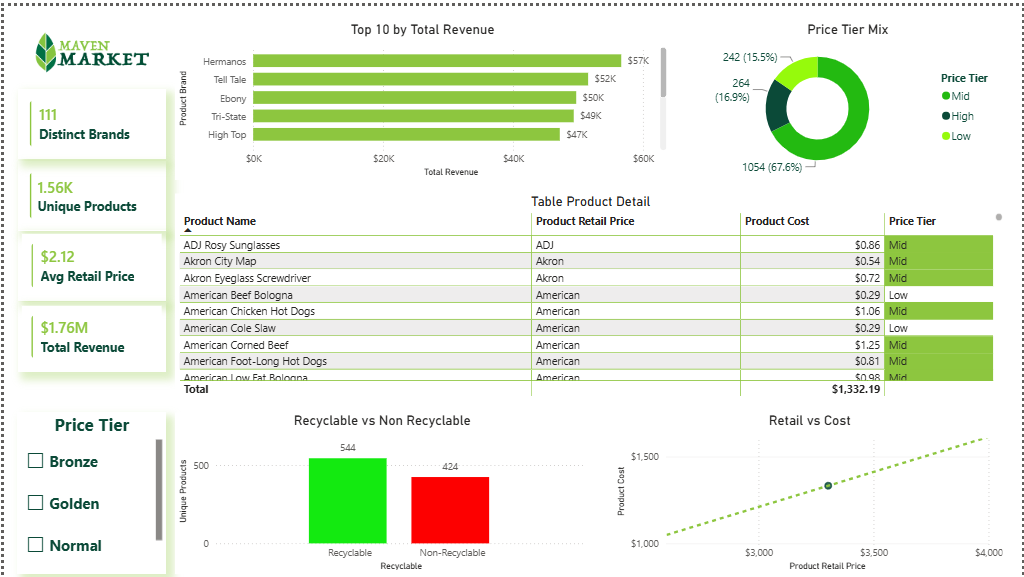

This screenshot's page, from the dashboard's own definition file:
{"tool":"powerbi","page":{"name":"Product Detail","canvas":[1280,720],"ordinal":1},"visuals":[{"type":"image","box":[36.1,19.7,149.2,78.7],"z":1000},{"type":"cardVisual","fields":{"Data":["Products.Distinct Brands"]},"box":[16.4,103.3,186.9,88.5],"z":2000},{"type":"cardVisual","fields":{"Data":["Products.Unique Products"]},"box":[16.4,193.4,186.9,88.5],"z":3000},{"type":"cardVisual","fields":{"Data":["Products.Avg Retail Price"]},"box":[16.4,282,186.9,90.2],"z":4000},{"type":"cardVisual","fields":{"Data":["Transaction Data.Total Revenue"]},"box":[16.4,372.1,186.9,88.5],"z":5000},{"type":"slicer","title":"Price Tier","fields":{"Values":["Customers.member_card"]},"box":[16.4,511.5,186.9,203.3],"z":6000},{"type":"columnChart","title":"Recyclable vs Non Recyclable","fields":{"Category":["Products.recyclable"],"Y":["Products.Unique Products"]},"box":[214.8,511.5,521.3,203.3],"z":8000},{"type":"barChart","title":"Top 10 by Total Revenue","fields":{"Category":["Products.product_brand"],"Y":["Transaction Data.Total Revenue"]},"box":[214.8,19.7,623,200],"z":9000},{"type":"donutChart","title":"Price Tier Mix","fields":{"Category":["Products.Price_Tier"],"Y":["Products.Unique Products"]},"box":[862.3,19.7,398.4,200],"z":10000},{"type":"tableEx","title":"Table Product Detail","fields":{"Values":["Products.product_name","Products.product_brand","Sum(Products.product_cost)","Products.Price_Tier"]},"box":[214.8,236.1,1045.9,260.7],"z":12000},{"type":"scatterChart","title":"Retail vs Cost","fields":{"X":["Sum(Products.product_retail_price)"],"Y":["Sum(Products.product_cost)"]},"box":[765.6,511.5,495.1,203.3],"z":13000}]}

Visuals, with their boxes in screenshot pixels (x1, y1, x2, y2), scaled from the page's 1280x720 canvas onto the 1024x577 screenshot:
image: <bbox>29, 16, 148, 79</bbox>
cardVisual - Products.Distinct Brands: <bbox>13, 83, 163, 154</bbox>
cardVisual - Products.Unique Products: <bbox>13, 155, 163, 226</bbox>
cardVisual - Products.Avg Retail Price: <bbox>13, 226, 163, 298</bbox>
cardVisual - Transaction Data.Total Revenue: <bbox>13, 298, 163, 369</bbox>
"Price Tier" slicer: <bbox>13, 410, 163, 573</bbox>
"Recyclable vs Non Recyclable" columnChart: <bbox>172, 410, 589, 573</bbox>
"Top 10 by Total Revenue" barChart: <bbox>172, 16, 670, 176</bbox>
"Price Tier Mix" donutChart: <bbox>690, 16, 1009, 176</bbox>
"Table Product Detail" tableEx: <bbox>172, 189, 1009, 398</bbox>
"Retail vs Cost" scatterChart: <bbox>612, 410, 1009, 573</bbox>
